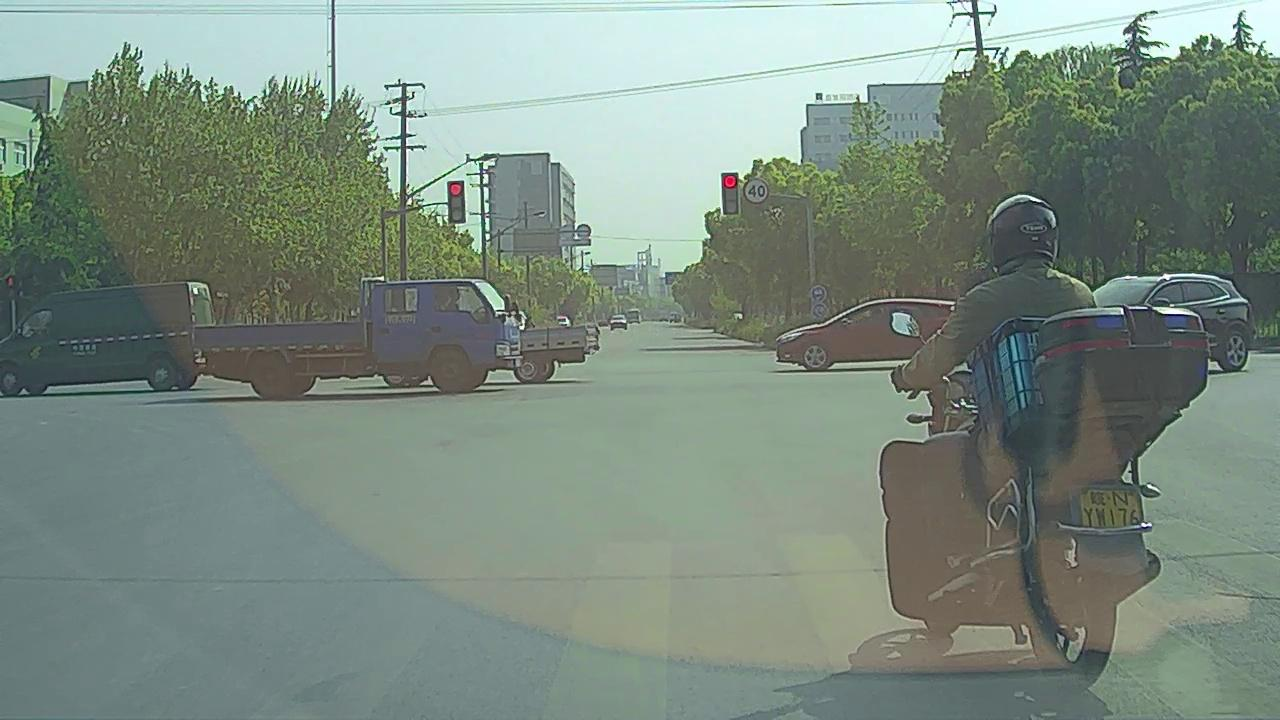traffic_light: (447, 181, 465, 223), (722, 172, 739, 214)
